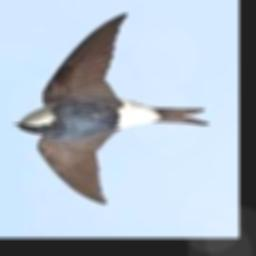Swallow: (12, 14, 210, 205)
